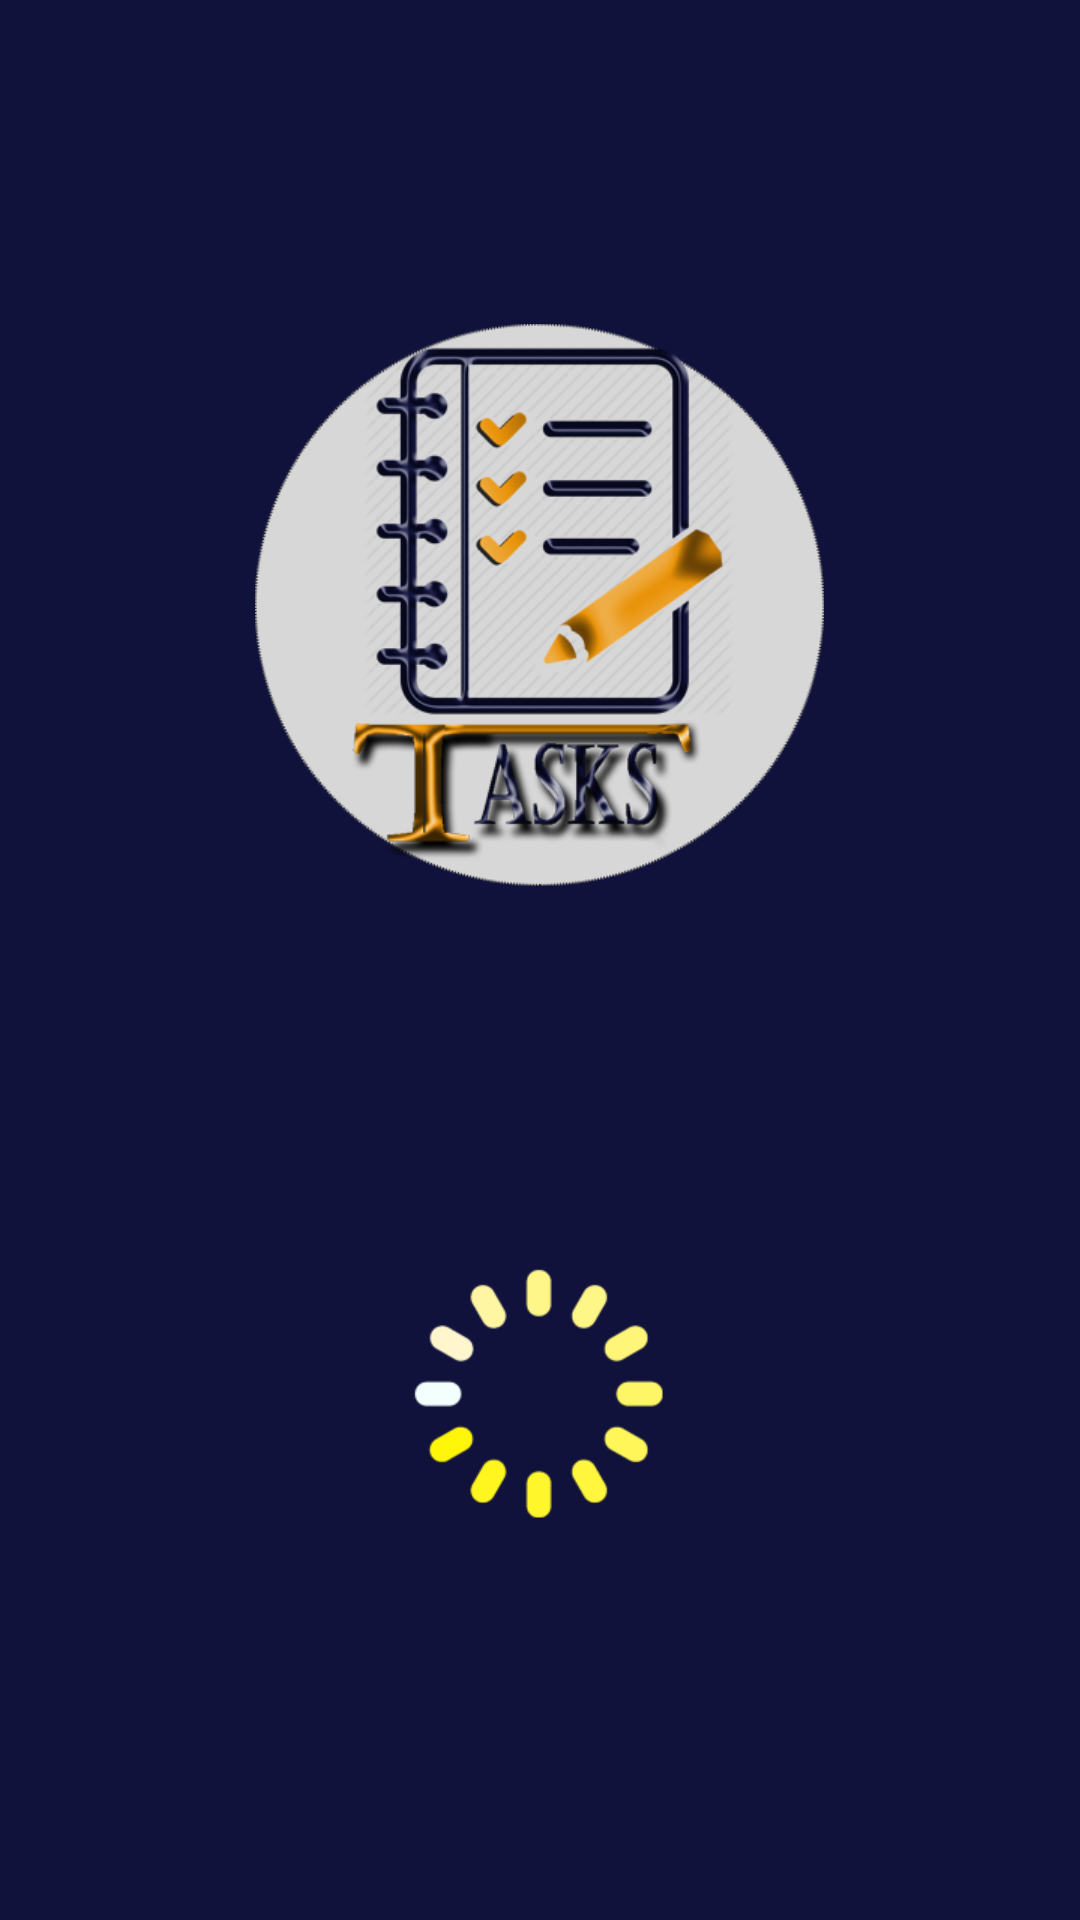

Screen size 1080 × 1920. Icon name, then its box in pixels as (x1, y1, x2, y2):
loading: (414, 1269, 663, 1518)
